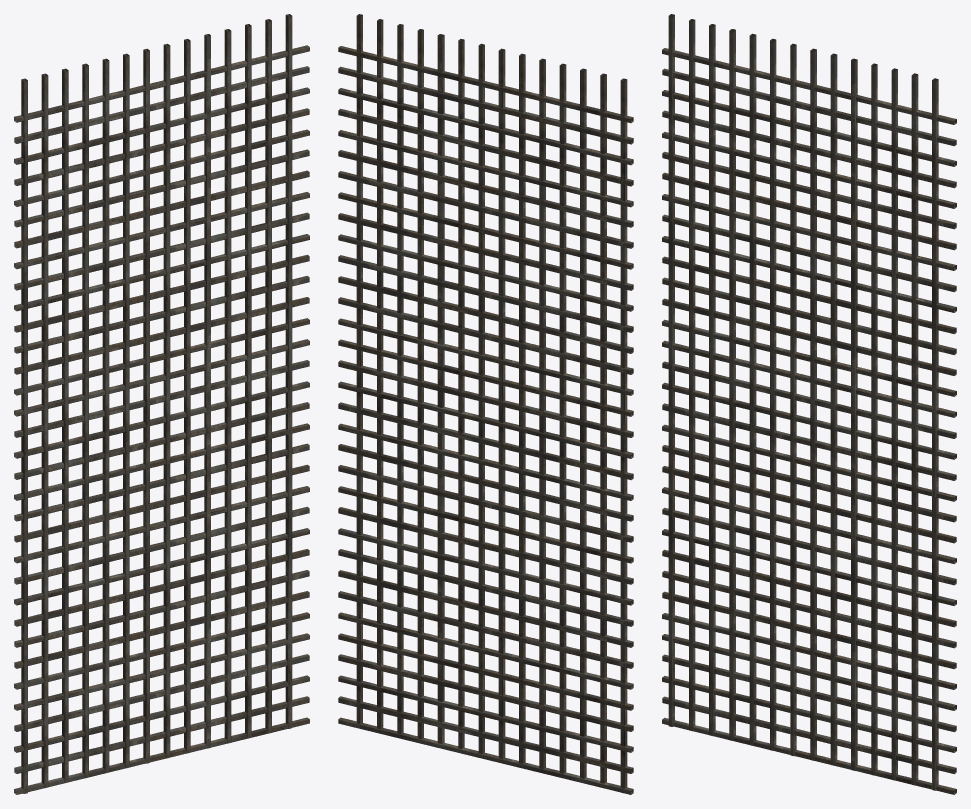
The model's file is wall_012.glb.
3 views of the same model, side by side, from view 1: azimuth 30°, elevation 25°; view 2: azimuth 150°, elevation 25°; view 3: azimuth 330°, elevation 25° (orthographic).
Visible parts, largest first — view 1: Building_12_077; view 2: Building_12_077; view 3: Building_12_077.
Boxes of the visible parts, x1,y1,x2,y2 form: Building_12_077: (14, 14, 309, 794); Building_12_077: (338, 14, 633, 794); Building_12_077: (662, 14, 956, 794).
Size of the model in its own units: 0.8607 by 2 by 0.0162.
Materials: 1 (1 with a texture image).
